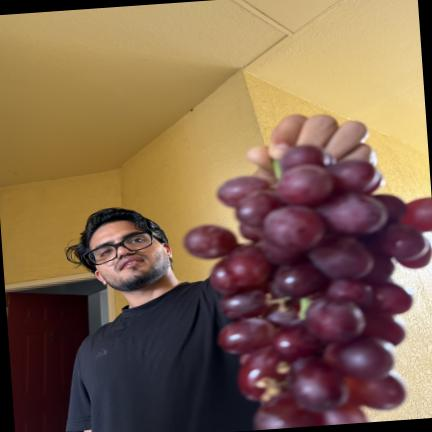grape_cluster: (185, 145, 432, 430)
